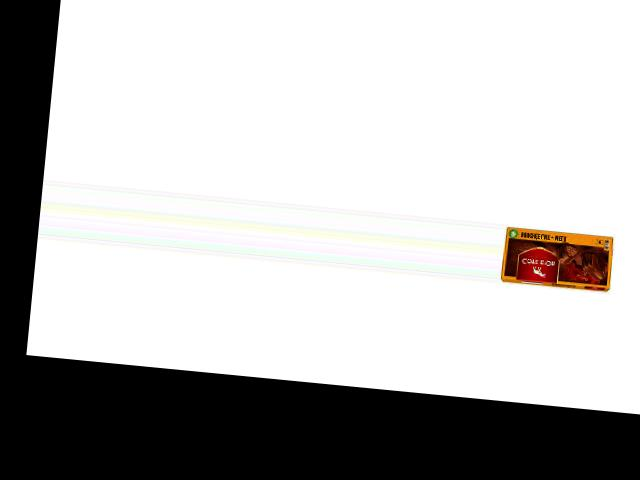chocolate: (500, 217, 617, 294)
